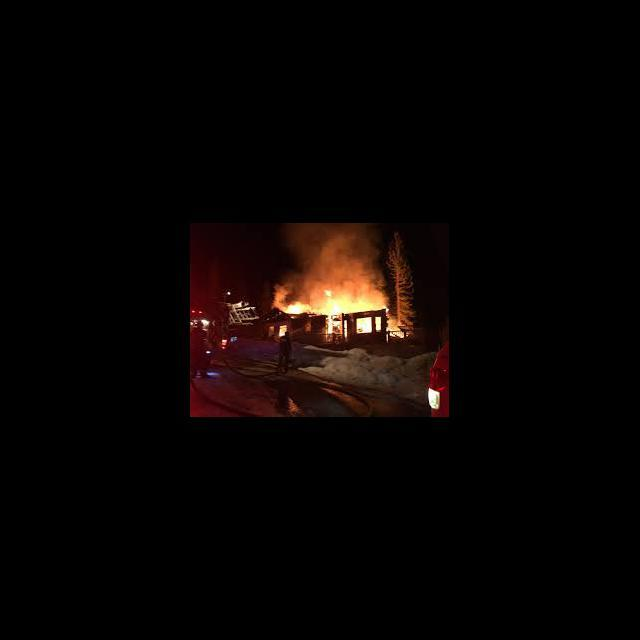Fire: (272, 282, 382, 316), (356, 318, 372, 333), (376, 316, 382, 332), (280, 326, 288, 336)
Smoke: (282, 226, 378, 282)
